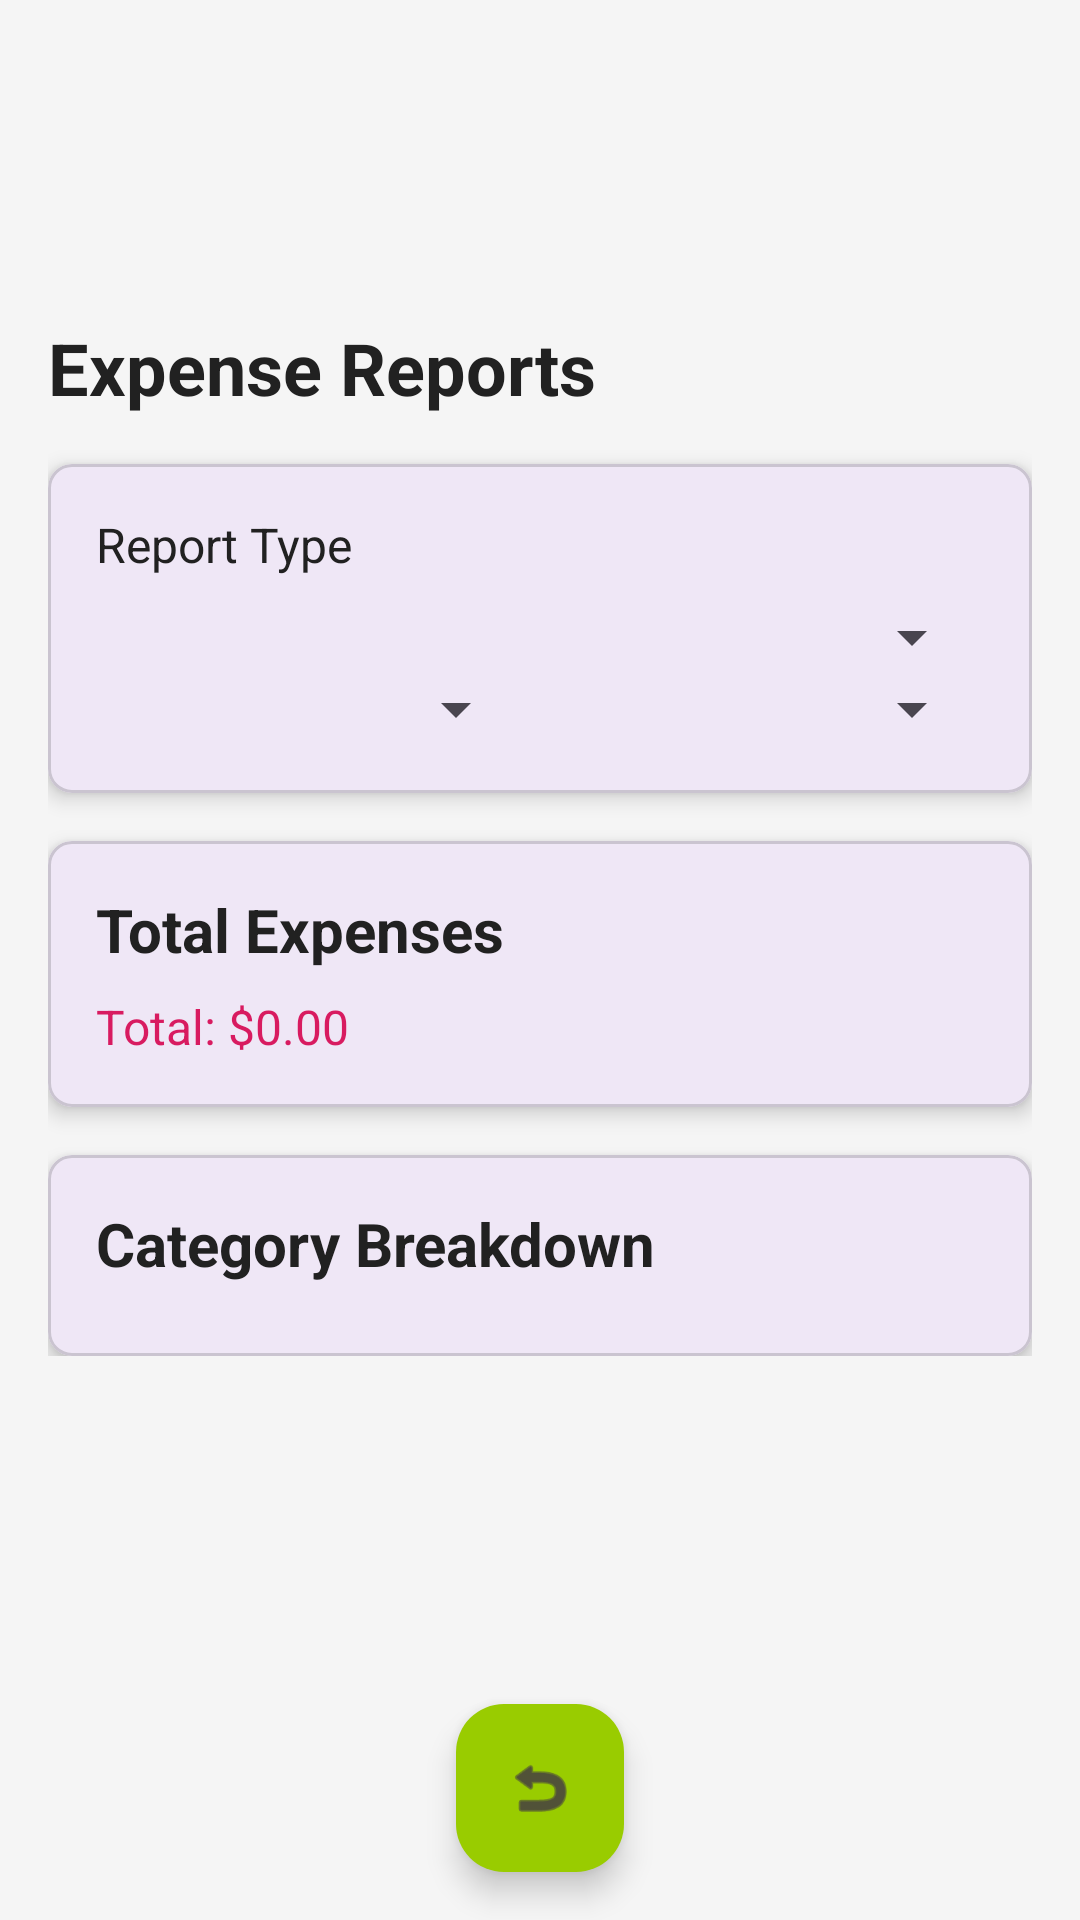

Locate icon controls on the screen. Image size 1080w x 1920h, boxes as (x1, y1, x2, y2).
Back to Menu: (456, 1704, 624, 1872)
